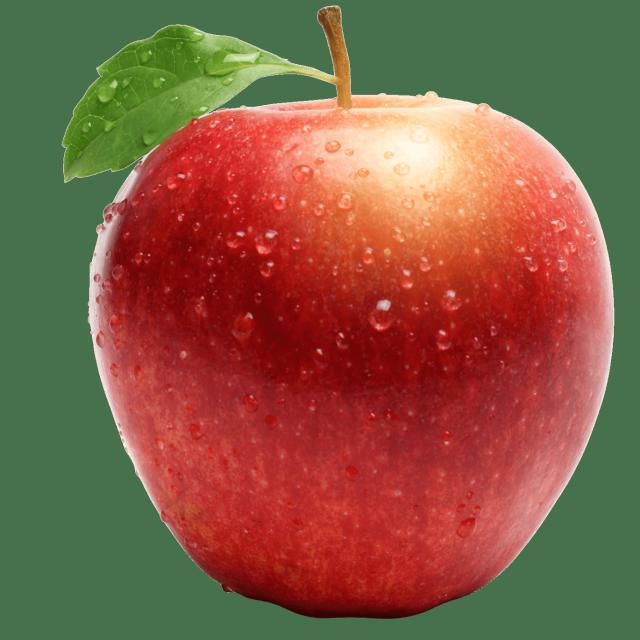manzana: (64, 5, 624, 622)
